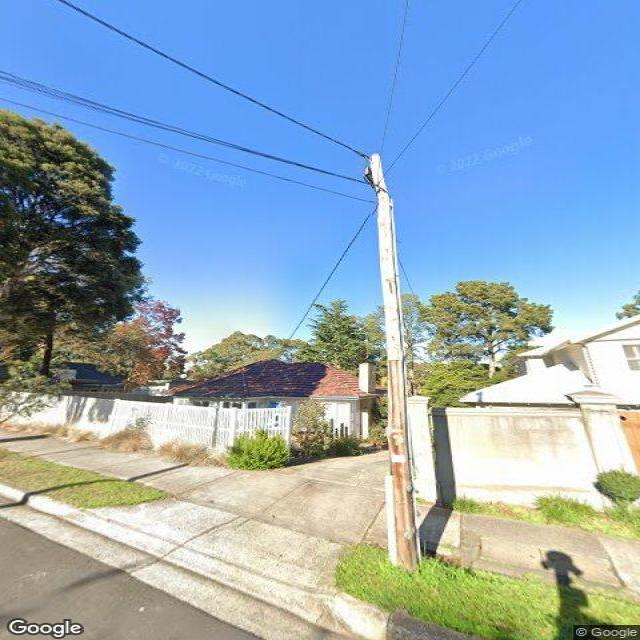timber-pole: (367, 153, 422, 568)
